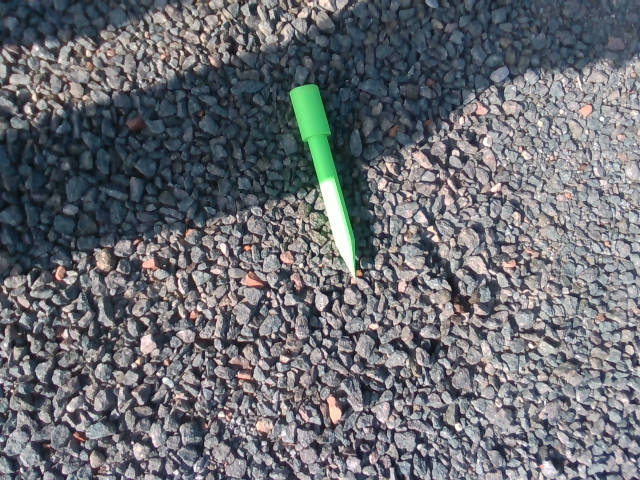Probe: (286, 80, 360, 284)
